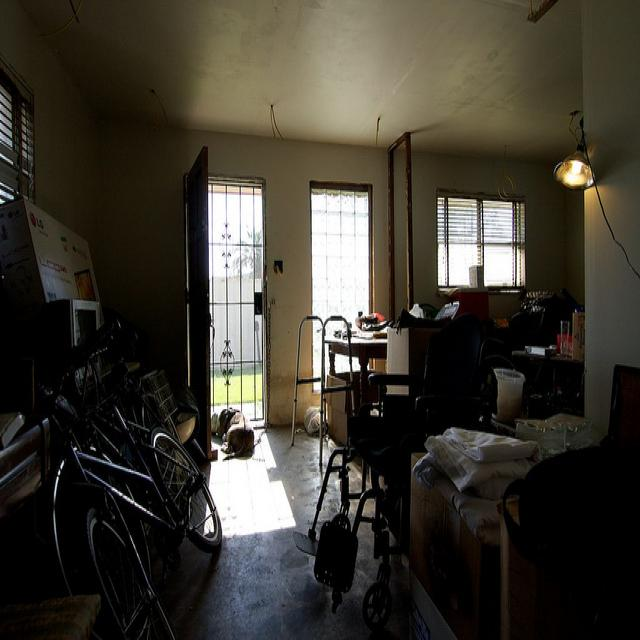chair: (415, 331, 499, 442)
dining table: (325, 311, 397, 408)
